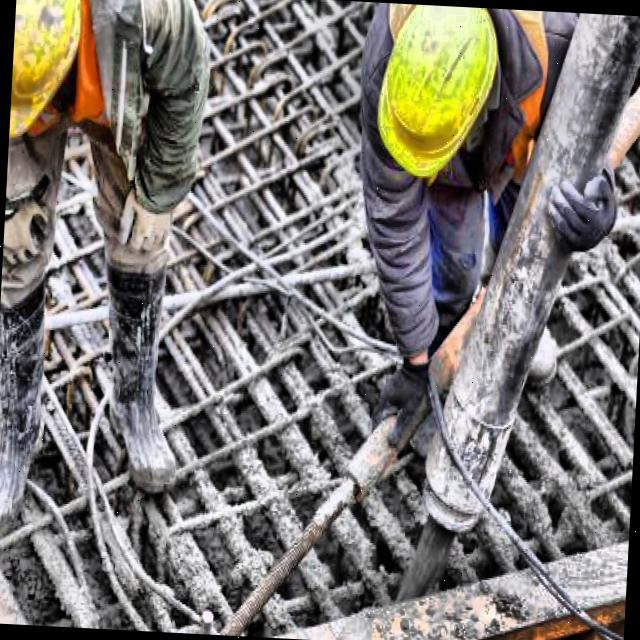helmet: (366, 5, 514, 202), (7, 0, 103, 180)
